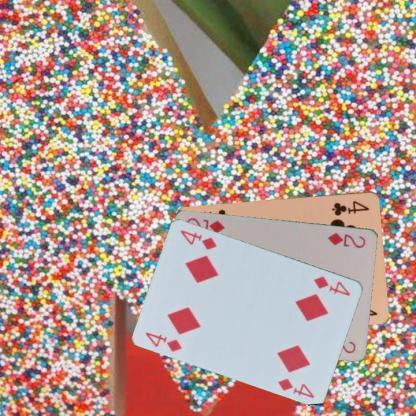2d: (325, 229, 367, 249)
4c: (329, 198, 371, 216)
4d: (143, 329, 184, 354), (311, 273, 352, 297)
